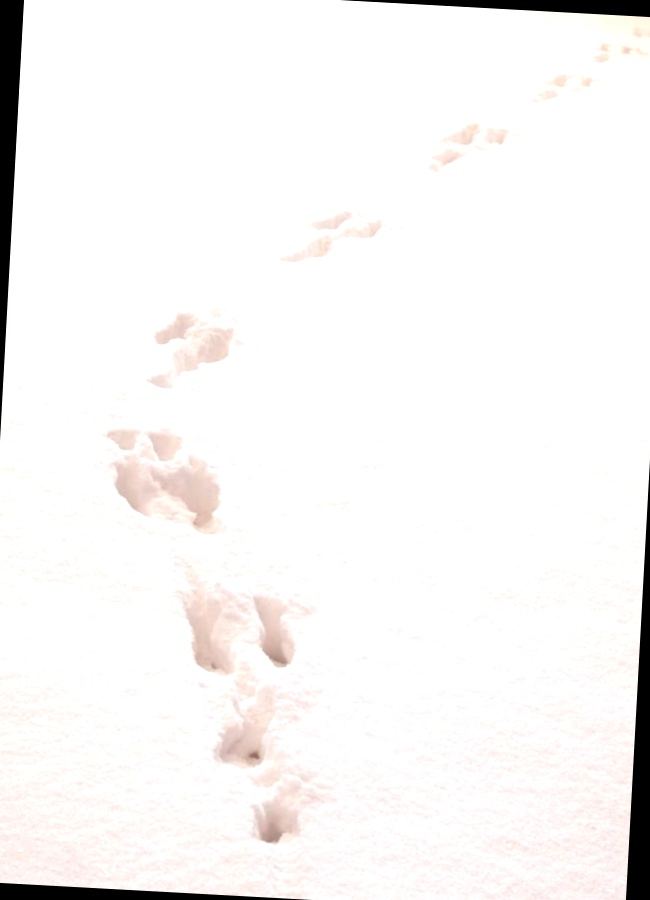lapin: (90, 408, 249, 547), (130, 286, 257, 399), (165, 551, 251, 681), (411, 107, 538, 195), (268, 195, 406, 273), (246, 567, 321, 677), (216, 674, 284, 772), (520, 59, 610, 128), (241, 789, 301, 848)
